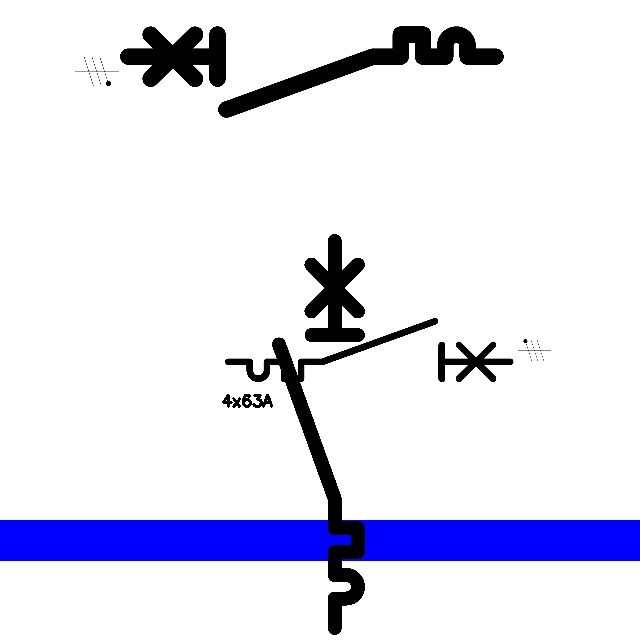interruptor_termomagnetico: (269, 231, 368, 638), (118, 25, 504, 119), (221, 314, 517, 386)
